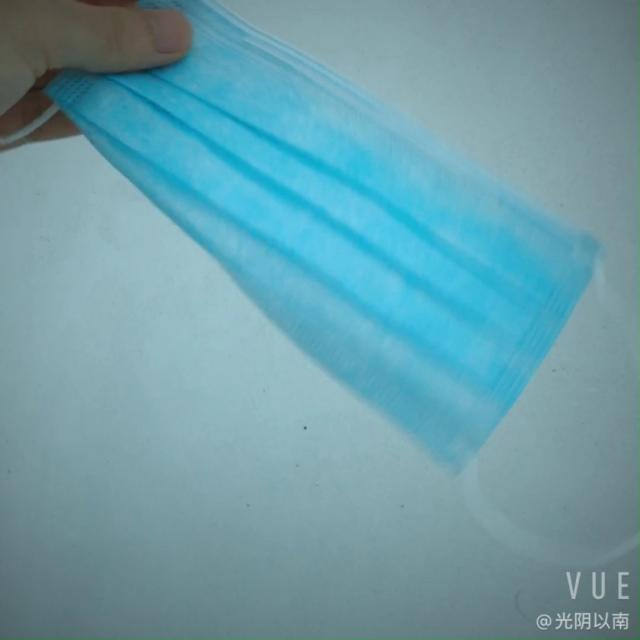non-organic waste: (90, 6, 567, 508)
